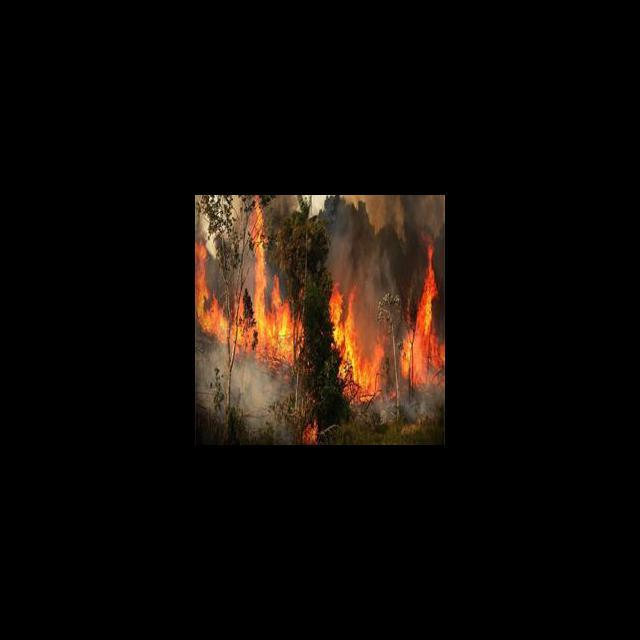Fire: (195, 198, 442, 401), (302, 420, 324, 445)
